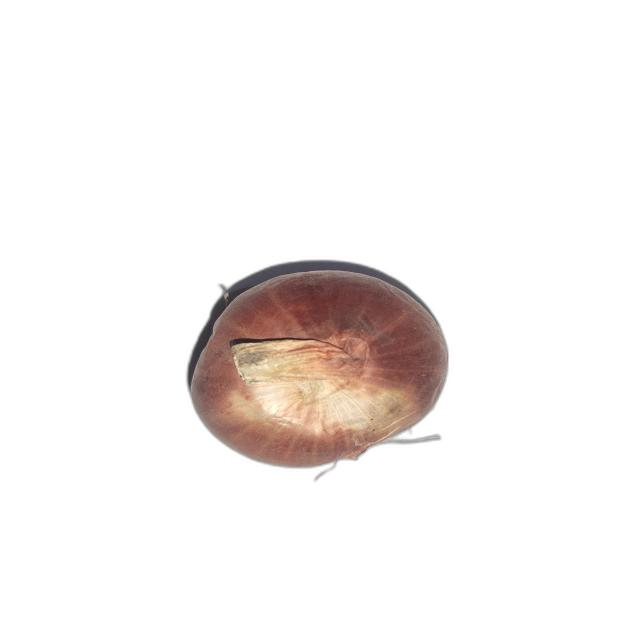onion: (191, 269, 448, 470)
